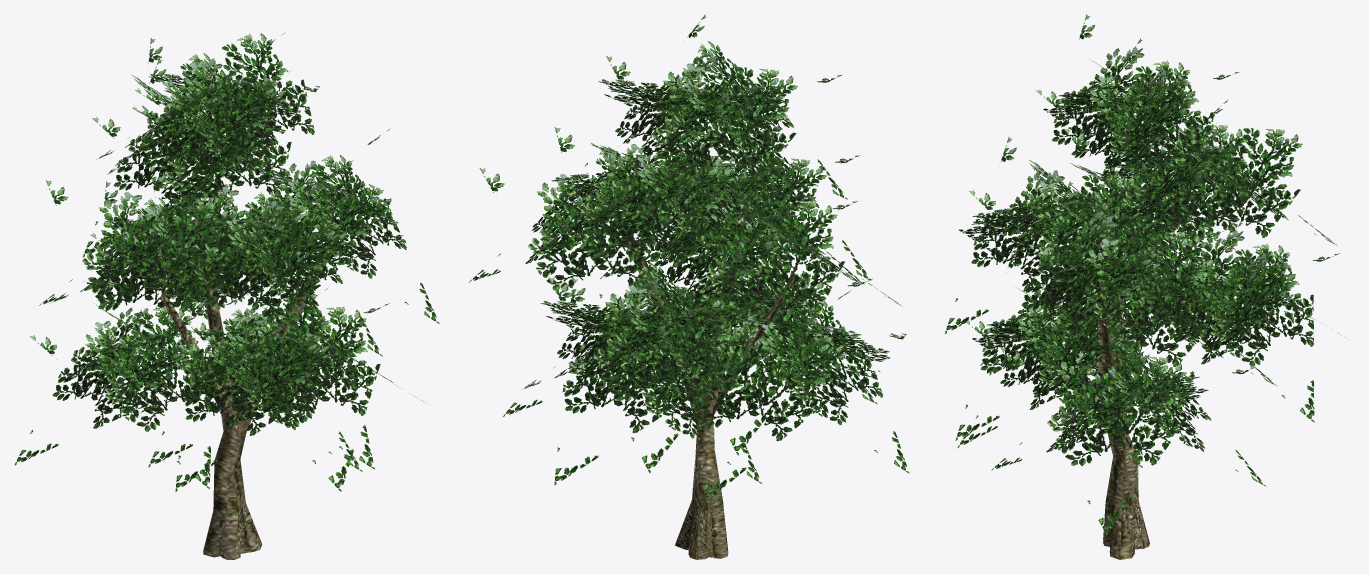
File: flora_tree_oak_large_v3.glb
3 views of the same model, side by side, from view 1: azimuth 30°, elevation 25°; view 2: azimuth 150°, elevation 25°; view 3: azimuth 270°, elevation 25° (orthographic). The views are drawn at different scales.
Visible parts, largest first — view 1: flora_tree_oak_large_v3_part1, flora_tree_oak_large_v3_part0; view 2: flora_tree_oak_large_v3_part1, flora_tree_oak_large_v3_part0; view 3: flora_tree_oak_large_v3_part1, flora_tree_oak_large_v3_part0.
Part boxes in pixels (x1,y1,x2,y2): flora_tree_oak_large_v3_part1: (14,32,439,491); flora_tree_oak_large_v3_part0: (160,212,346,559); flora_tree_oak_large_v3_part1: (469,14,909,501); flora_tree_oak_large_v3_part0: (606,200,794,559); flora_tree_oak_large_v3_part1: (945,14,1346,534); flora_tree_oak_large_v3_part0: (1098,193,1149,559).
Size of the model in its own units: 18.58 by 20.79 by 16.47.
Materials: 2 (2 with a texture image).
